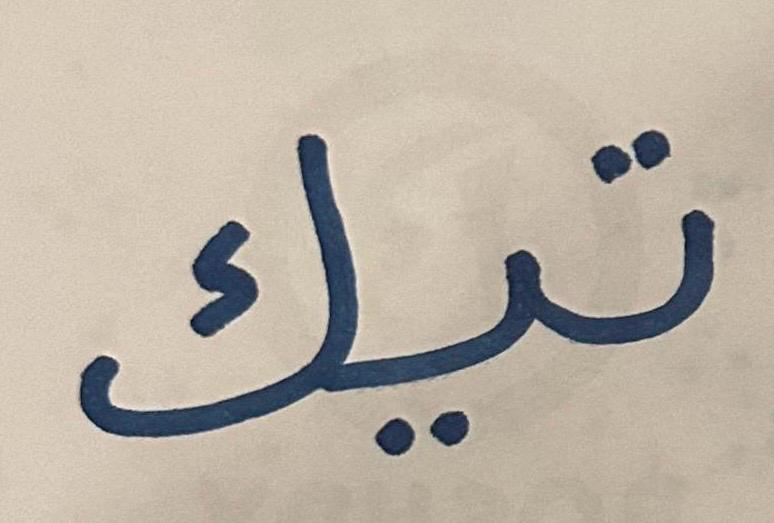khah: (38, 66, 360, 482)
teh_marbota: (553, 73, 735, 420)
zah: (363, 164, 549, 477)
